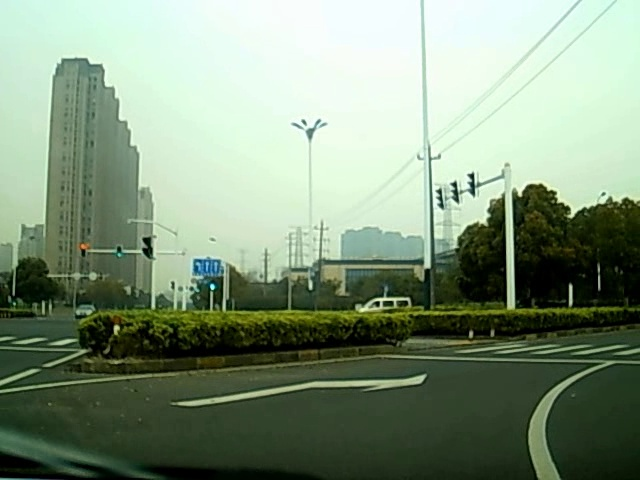Traffic_Light_go: (208, 280, 216, 292), (116, 245, 122, 260)
Traffic_Light_stop: (78, 243, 88, 257)
